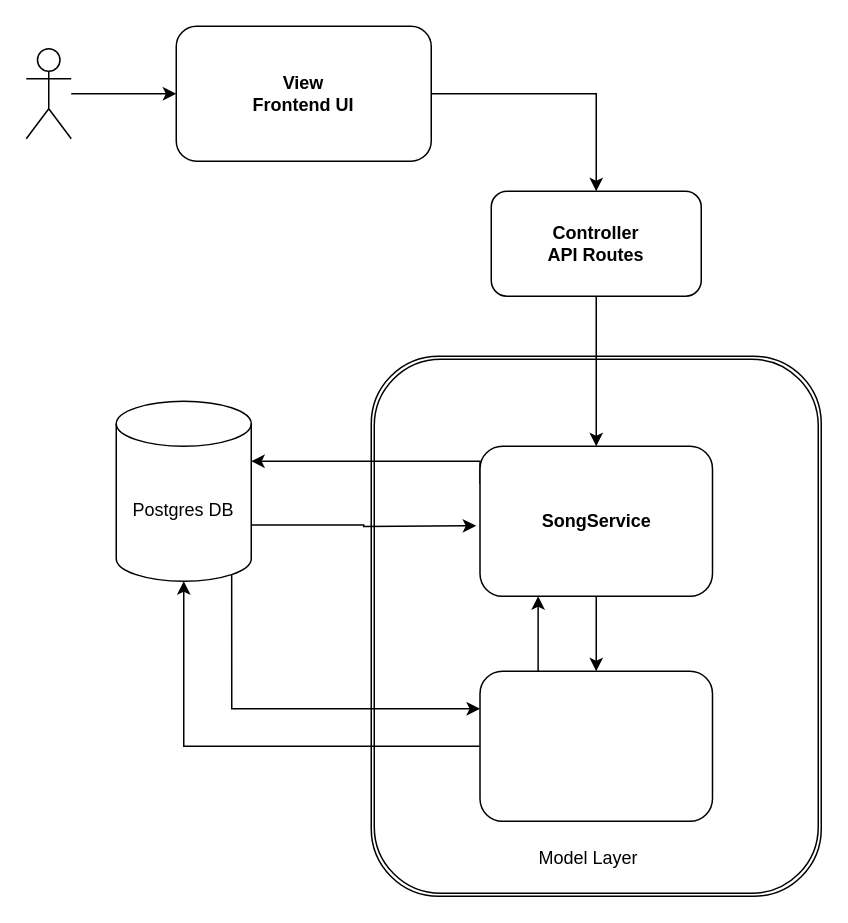
Image size: 848x923. Some labels were removed from this diagram. The shapes that lost their labels are listed below. From the top down, each one's centre as x and y in pixels, then its label:
At pixel 48 93: "User".
At pixel 595 745: "RecommendationService (IRMC algorithm)".
